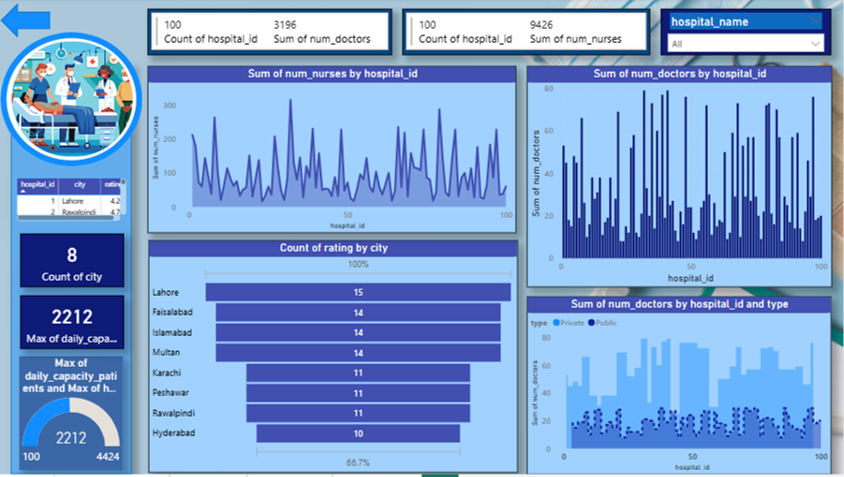

What the dashboard file says about the page in this screenshot:
{"tool":"powerbi","page":{"name":"Hospitals","canvas":[1280,720],"ordinal":3},"visuals":[{"type":"funnel","fields":{"Category":["Hospitals.city"],"Y":["CountNonNull(Hospitals.rating)"]},"box":[229,365.2,559.4,352.2],"z":0},{"type":"shape","box":[21.7,101.2,182.6,618.8],"z":1000},{"type":"columnChart","fields":{"Category":["Hospitals.hospital_id"],"Y":["Sum(Hospitals.num_doctors)"]},"box":[801.7,101.7,461.7,335],"z":2000},{"type":"slicer","fields":{"Values":["Hospitals.hospital_name"]},"box":[1005,15,258.3,70],"z":3000},{"type":"shape","box":[5.8,50.7,214.5,202.9],"z":4000},{"type":"image","box":[23.2,65.2,182.6,173.9],"z":5000},{"type":"areaChart","fields":{"Category":["Hospitals.hospital_id"],"Y":["Sum(Hospitals.num_nurses)"]},"box":[228.3,101.7,558.3,253.3],"z":6000},{"type":"multiRowCard","fields":{"Values":["Hospitals.hospital_id","Sum(Hospitals.num_nurses)"]},"box":[613.3,15,375,70],"z":7000},{"type":"multiRowCard","fields":{"Values":["Hospitals.hospital_id","Hospitals.num_doctors"]},"box":[228.3,15,370,70],"z":8000},{"type":"tableEx","fields":{"Values":["Hospitals.hospital_id","Hospitals.city","Hospitals.rating"]},"box":[27.5,269.6,172.5,69.6],"z":9000},{"type":"areaChart","fields":{"Category":["Hospitals.hospital_id"],"Y":["Sum(Hospitals.num_doctors)"],"Series":["Hospitals.type"]},"box":[801.9,450,461.1,270.4],"z":10000},{"type":"shape","box":[5.8,7.2,75.4,52.2],"z":11000},{"type":"card","fields":{"Values":["Count(Hospitals.city)"]},"box":[34.8,355.1,156.5,81.2],"z":12000},{"type":"card","fields":{"Values":["Max(Hospitals.daily_capacity_patients)"]},"box":[34.8,449.3,156.5,81.2],"z":13000},{"type":"gauge","fields":{"Y":["Max(Hospitals.daily_capacity_patients)"],"MinValue":["Max(Hospitals.hospital_id)"]},"box":[34.5,541.4,156.9,172.4],"z":14000}]}

Visuals, with their boxes in screenshot pixels (x1, y1, x2, y2), scaled from the page's 1280x720 canvas onto the 844x477 screenshot:
funnel - Hospitals.city x CountNonNull(Hospitals.rating): {"left": 151, "top": 242, "right": 520, "bottom": 475}
shape: {"left": 14, "top": 67, "right": 135, "bottom": 476}
columnChart - Hospitals.hospital_id x Sum(Hospitals.num_doctors): {"left": 529, "top": 67, "right": 833, "bottom": 289}
slicer - Hospitals.hospital_name: {"left": 663, "top": 10, "right": 833, "bottom": 56}
shape: {"left": 4, "top": 34, "right": 145, "bottom": 168}
image: {"left": 15, "top": 43, "right": 136, "bottom": 158}
areaChart - Hospitals.hospital_id x Sum(Hospitals.num_nurses): {"left": 151, "top": 67, "right": 519, "bottom": 235}
multiRowCard - Hospitals.hospital_id x Sum(Hospitals.num_nurses): {"left": 404, "top": 10, "right": 652, "bottom": 56}
multiRowCard - Hospitals.hospital_id x Hospitals.num_doctors: {"left": 151, "top": 10, "right": 395, "bottom": 56}
tableEx - Hospitals.hospital_id x Hospitals.city: {"left": 18, "top": 179, "right": 132, "bottom": 225}
areaChart - Hospitals.hospital_id x Sum(Hospitals.num_doctors): {"left": 529, "top": 298, "right": 833, "bottom": 476}
shape: {"left": 4, "top": 5, "right": 54, "bottom": 39}
card - Count(Hospitals.city): {"left": 23, "top": 235, "right": 126, "bottom": 289}
card - Max(Hospitals.daily_capacity_patients): {"left": 23, "top": 298, "right": 126, "bottom": 351}
gauge - Max(Hospitals.daily_capacity_patients) x Max(Hospitals.hospital_id): {"left": 23, "top": 359, "right": 126, "bottom": 473}
